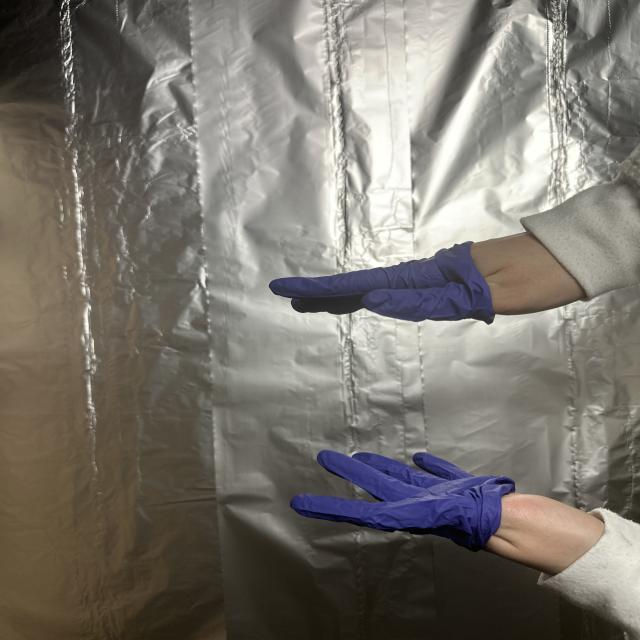glove_partial: (284, 446, 612, 580), (266, 229, 592, 323)
